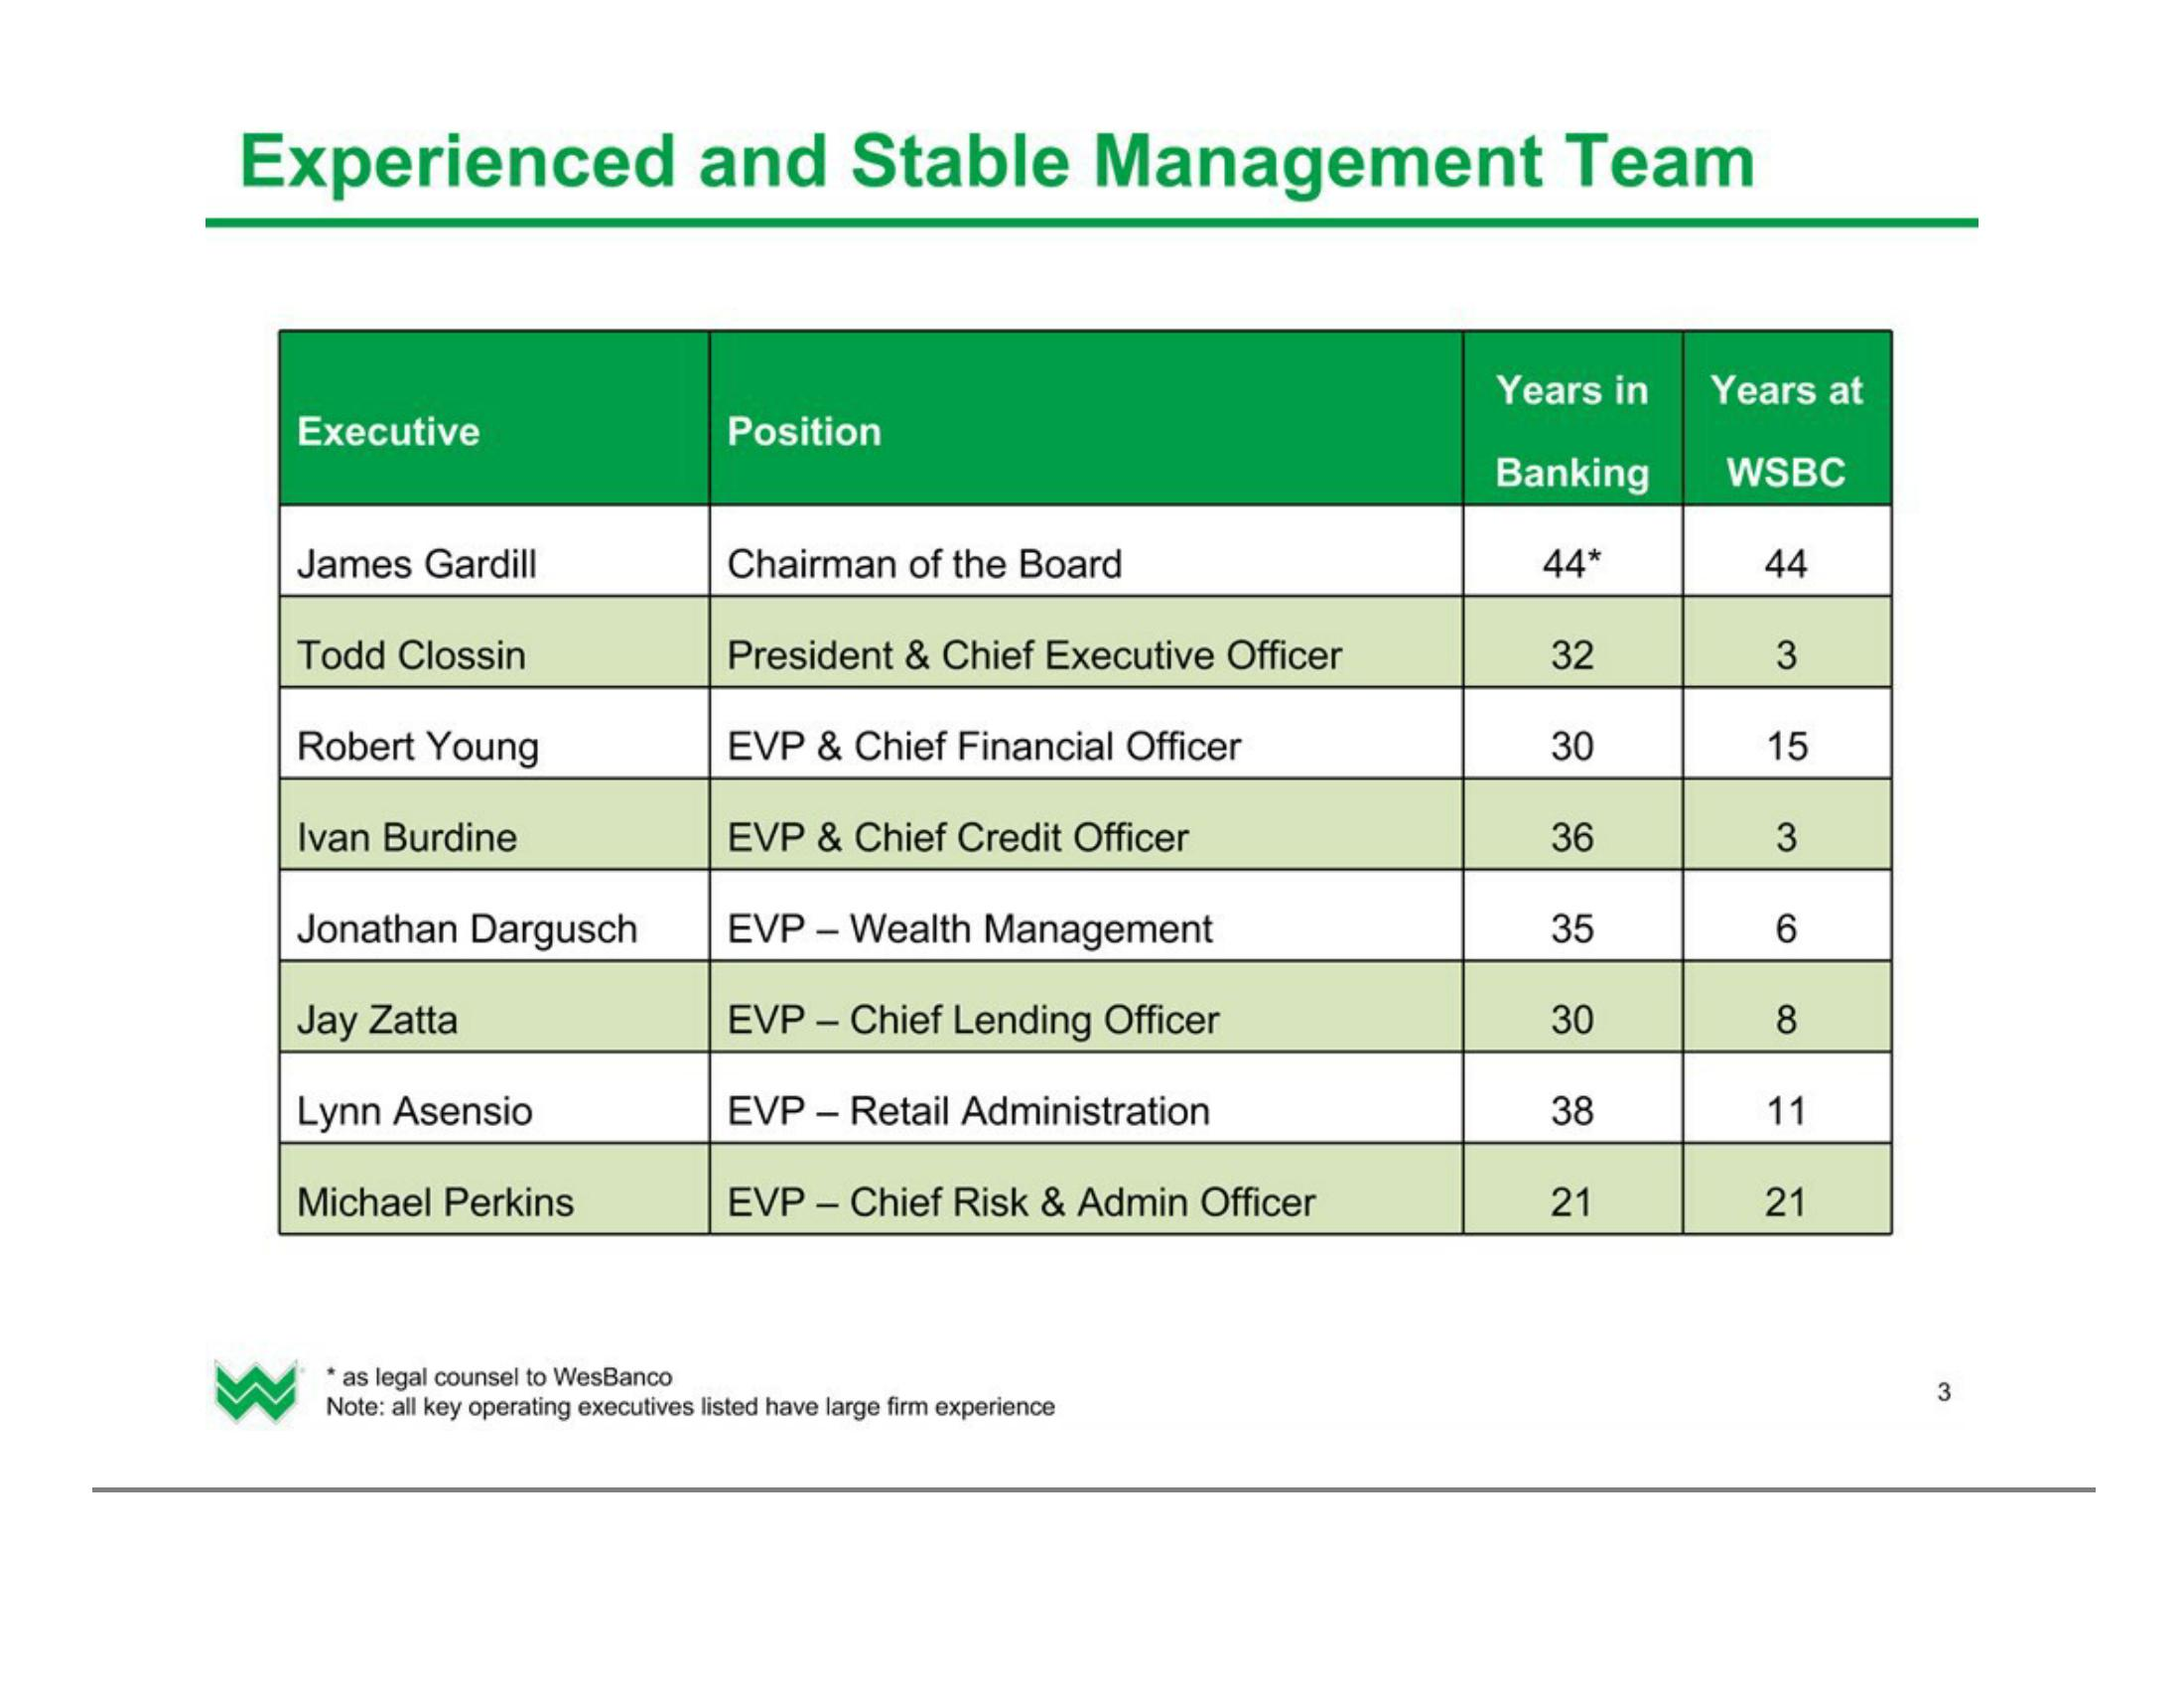table: (269, 324, 1900, 1245)
